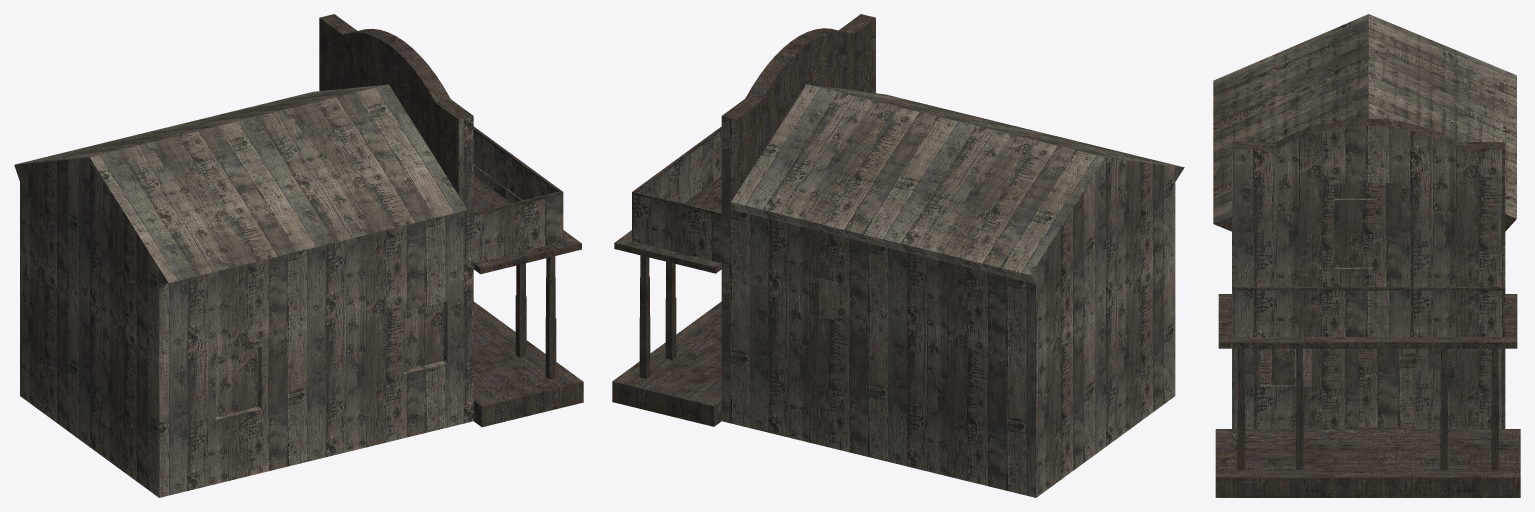
Rendered from House 10.fbx.
The picture shows the model from 3 angles, left to right: view 1: azimuth 30°, elevation 25°; view 2: azimuth 150°, elevation 25°; view 3: azimuth 270°, elevation 25°; orthographic projection.
Parts seen in each view (by area): view 1: Model, Component_16_2, Component_16_1; view 2: Model, Component_16_4, Component_16_3; view 3: Model, Component_16_2, Component_16_1, Component_16_3, Component_16_4.
Boxes of the visible parts, <box> form: Model: <box>14,14,583,497</box>; Component_16_2: <box>545,256,556,379</box>; Component_16_1: <box>515,263,526,357</box>; Model: <box>612,14,1184,497</box>; Component_16_4: <box>639,255,650,378</box>; Component_16_3: <box>665,261,676,359</box>; Model: <box>1213,14,1520,497</box>; Component_16_2: <box>1237,348,1245,469</box>; Component_16_1: <box>1296,348,1303,469</box>; Component_16_3: <box>1440,348,1447,469</box>; Component_16_4: <box>1491,348,1498,469</box>.
Size of the model in its own units: 72.31 by 54.64 by 47.03.
